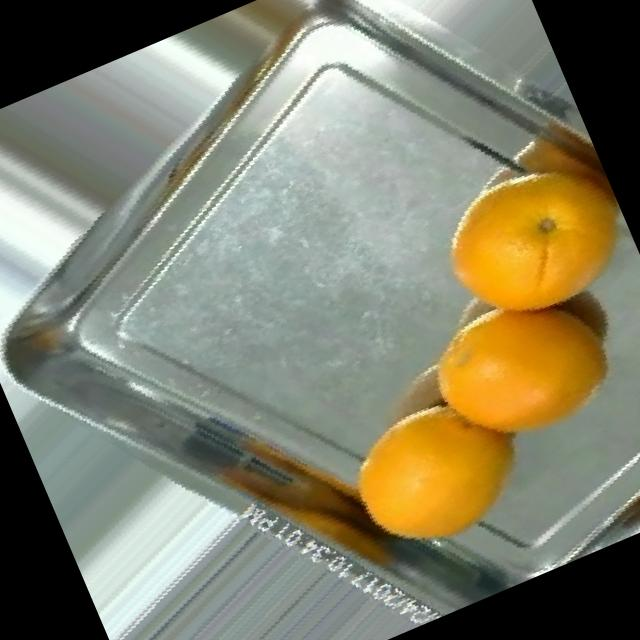Fruit: (308, 342, 593, 608), (396, 116, 640, 369)
